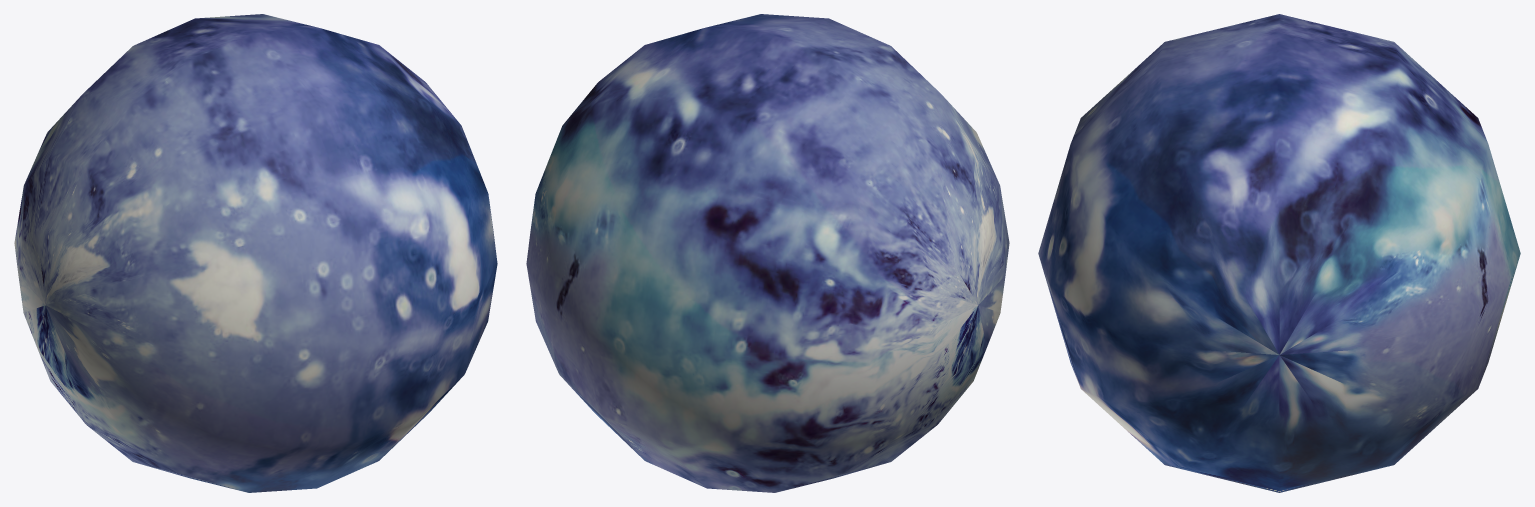
The model's file is ice_ball_01.fbx.
3 renders of one model, left to right at view 1: azimuth 30°, elevation 25°; view 2: azimuth 150°, elevation 25°; view 3: azimuth 270°, elevation 25°, orthographic.
Visible parts, largest first — view 1: pSphere1; view 2: pSphere1; view 3: pSphere1.
Boxes of the visible parts, left/top/right/bottom form: pSphere1: left=14, top=14, right=497, bottom=492; pSphere1: left=526, top=14, right=1009, bottom=492; pSphere1: left=1038, top=14, right=1520, bottom=492.
Size of the model in its own units: 23.42 by 23.42 by 23.42.
